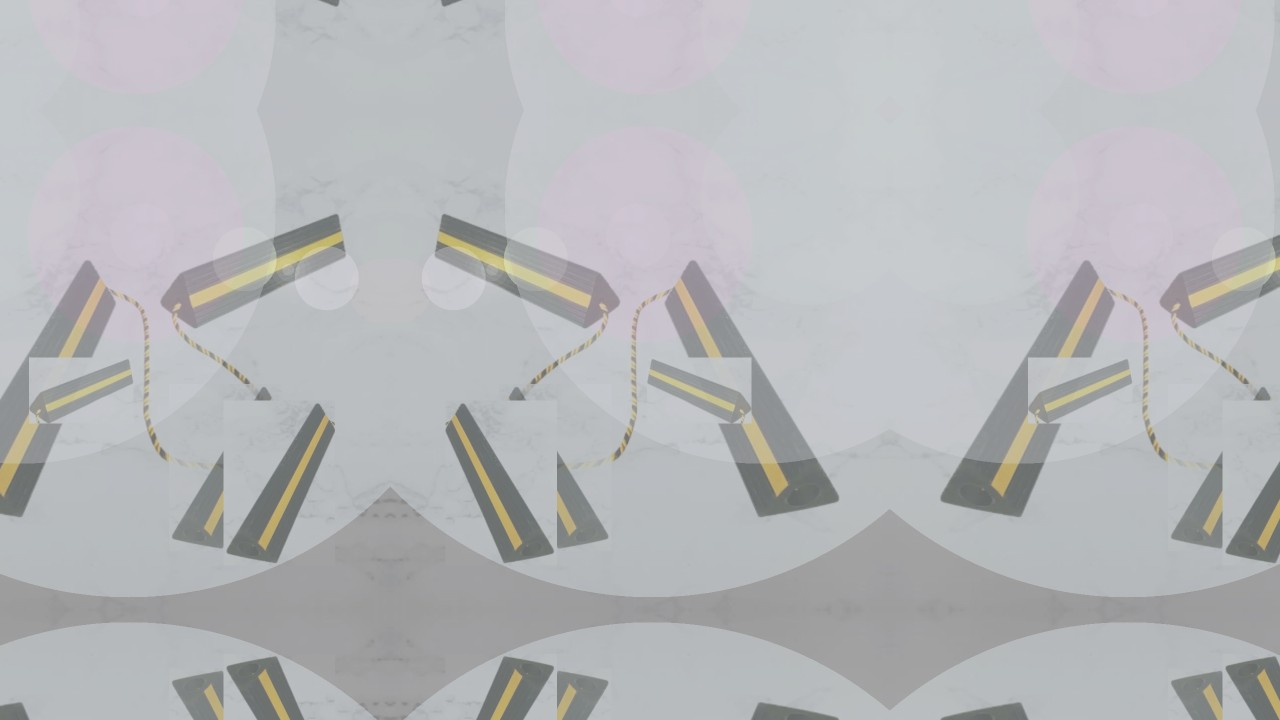chock: (665, 256, 844, 521), (936, 256, 1115, 521), (0, 256, 115, 521), (160, 211, 346, 329), (434, 211, 620, 329), (168, 384, 281, 551), (499, 384, 612, 551), (1168, 384, 1280, 551), (223, 400, 334, 565), (446, 400, 557, 565), (1160, 211, 1280, 329), (1223, 400, 1280, 565), (223, 655, 334, 720), (446, 655, 557, 720), (28, 357, 133, 424), (647, 357, 752, 424), (1028, 357, 1133, 424), (168, 669, 281, 720), (499, 669, 612, 720), (1168, 669, 1280, 720), (1223, 655, 1280, 720)
